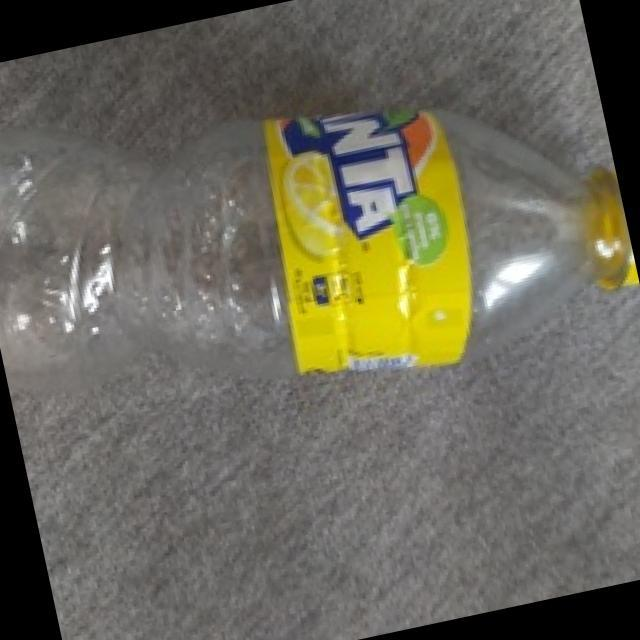good: (0, 4, 640, 466)
